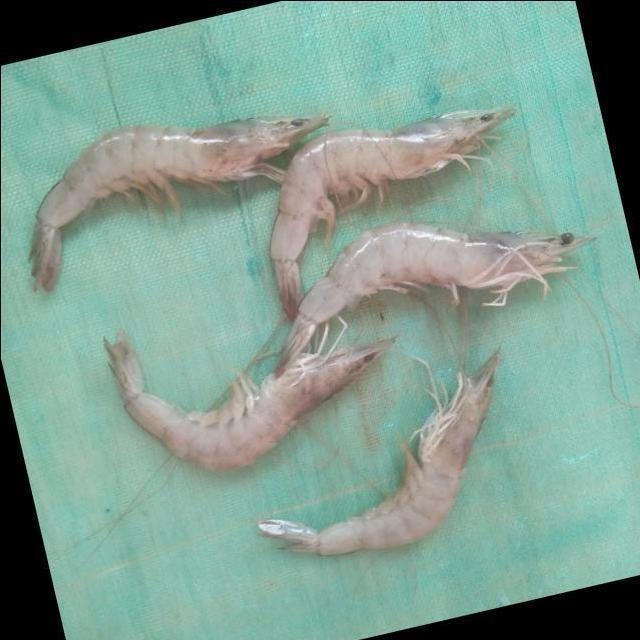shrimp: (28, 116, 327, 292), (269, 108, 514, 320), (258, 352, 502, 556), (273, 222, 594, 377), (104, 332, 394, 470)
